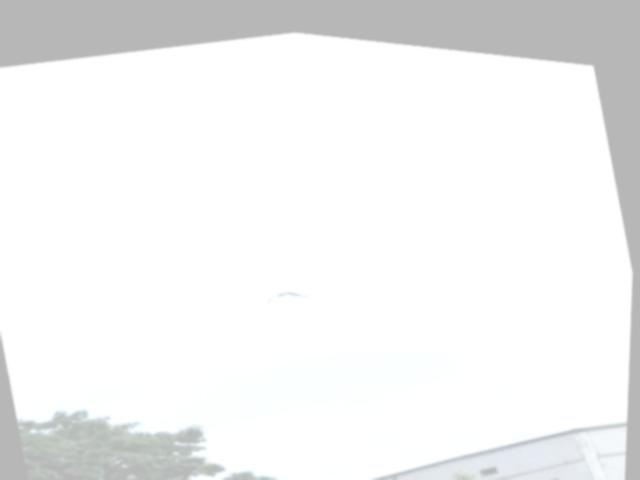bird: (251, 262, 341, 318)
